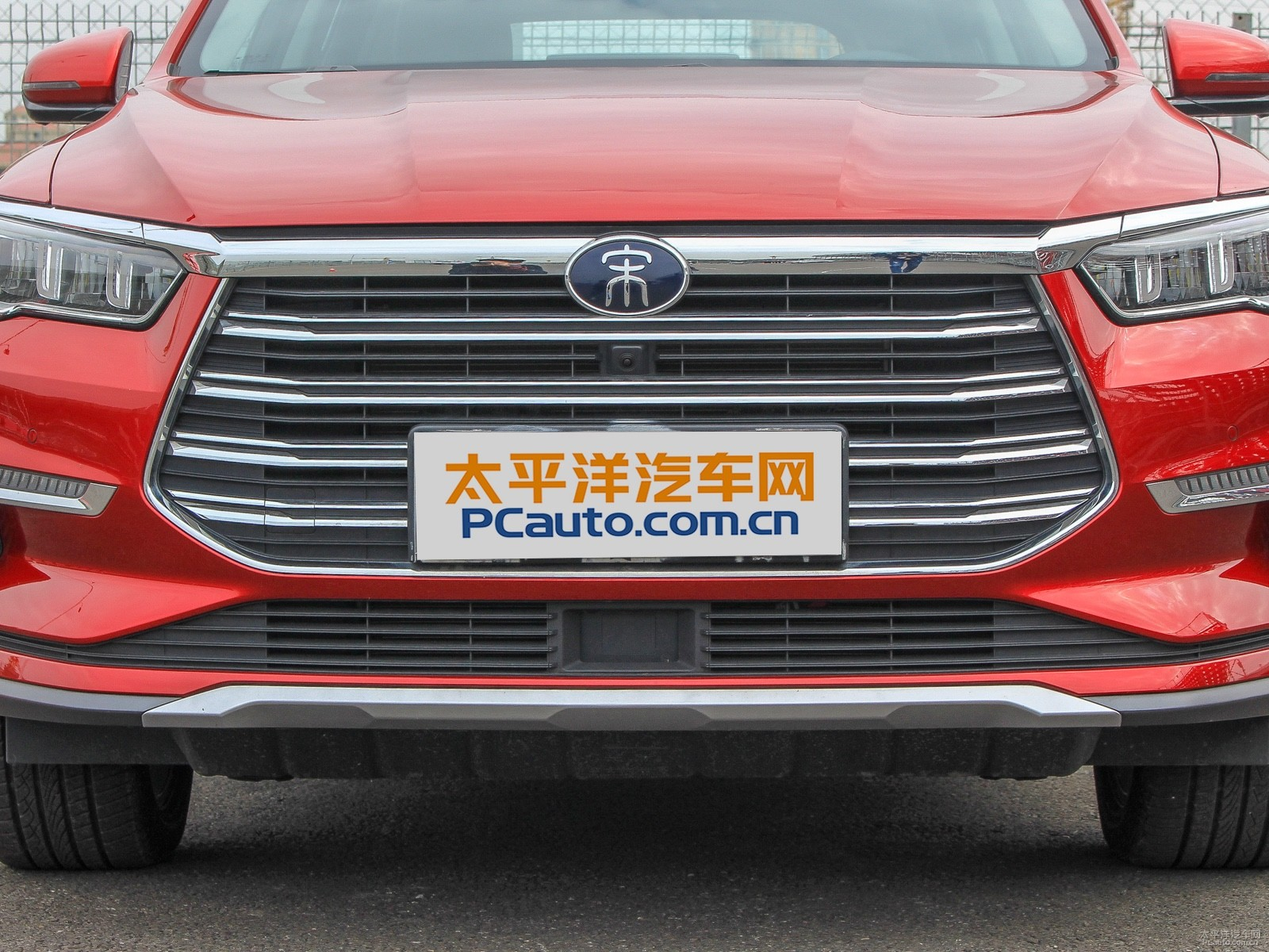BYD Song: (565, 236, 687, 316)
